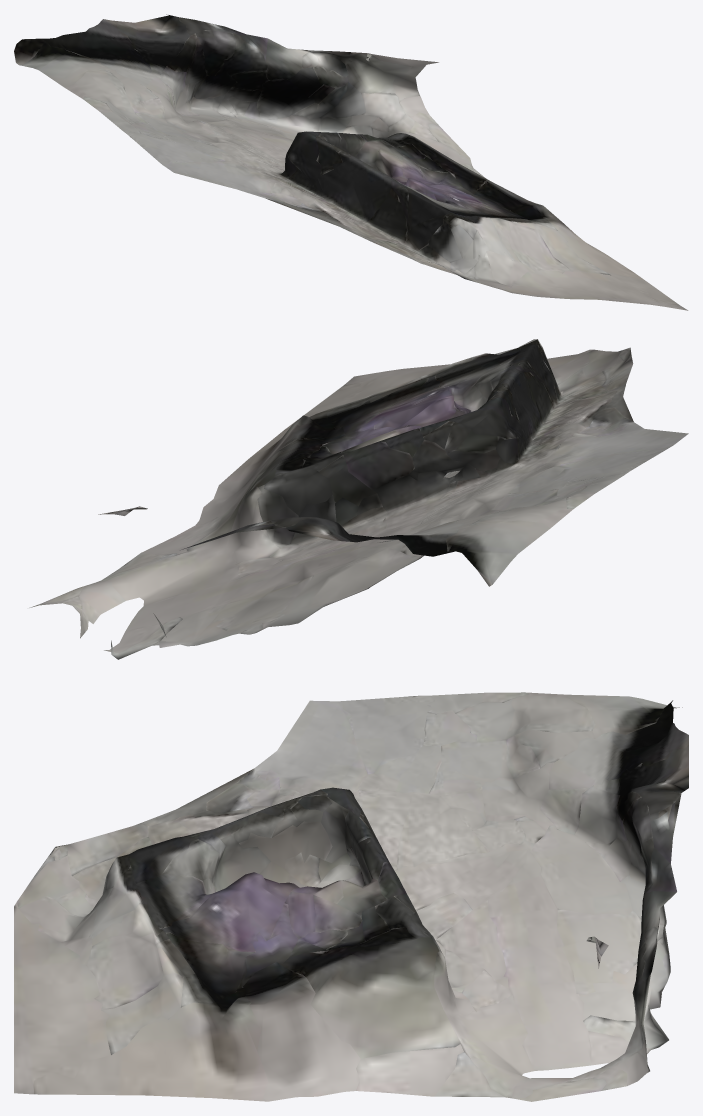
File: hall.glb
The picture shows the model from 3 angles, top to bottom: view 1: azimuth 30°, elevation 25°; view 2: azimuth 150°, elevation 25°; view 3: azimuth 270°, elevation 25°; orthographic projection. The views are drawn at different scales.
Bounding box in the file's own units: 1.65 × 0.6626 × 2.09.
Materials: 1 (1 with a texture image).
